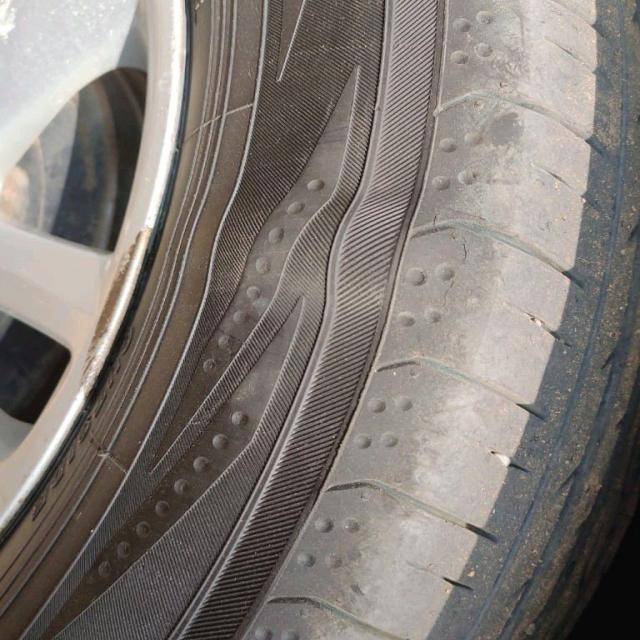Bulge: (204, 176, 486, 343)
